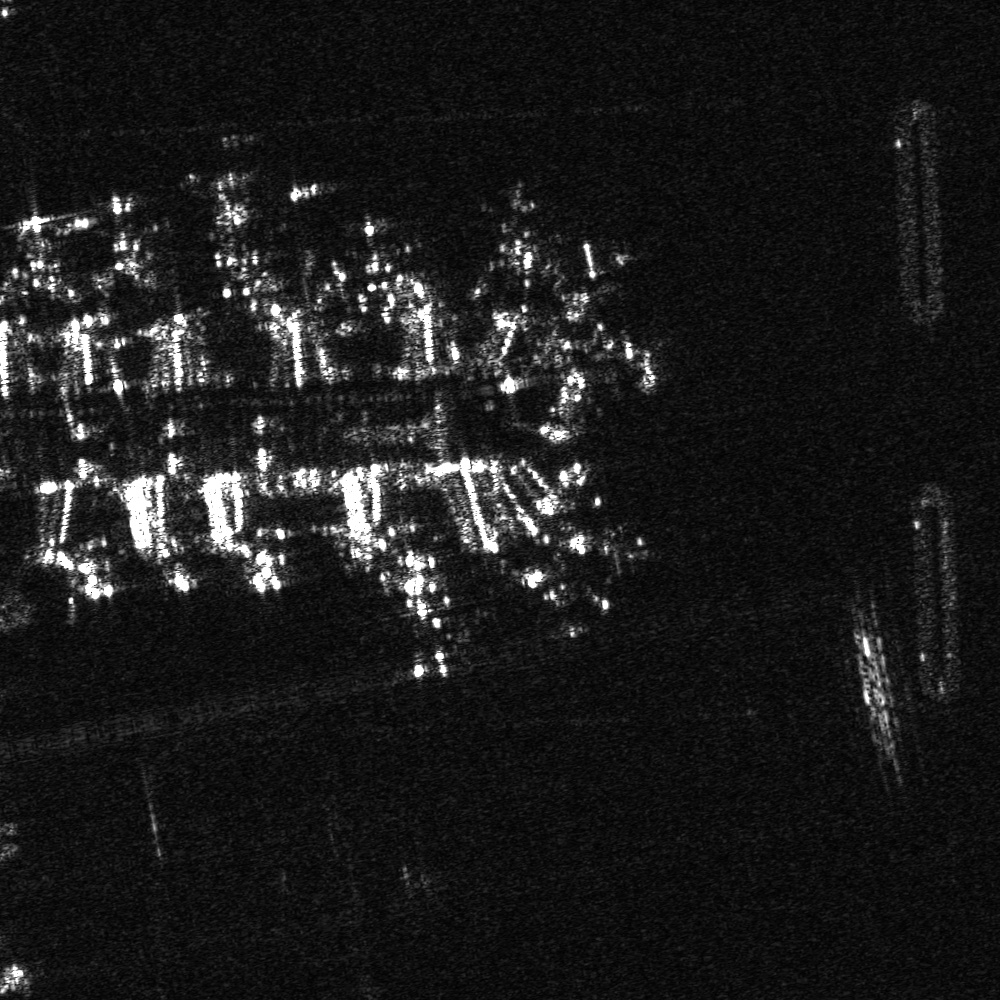A220: (1, 206, 83, 302)
A320/321: (363, 565, 480, 680), (190, 166, 292, 275), (466, 184, 578, 280), (326, 215, 417, 297), (558, 516, 662, 577)
Boeing737: (509, 562, 619, 625)
other: (85, 189, 181, 288)
